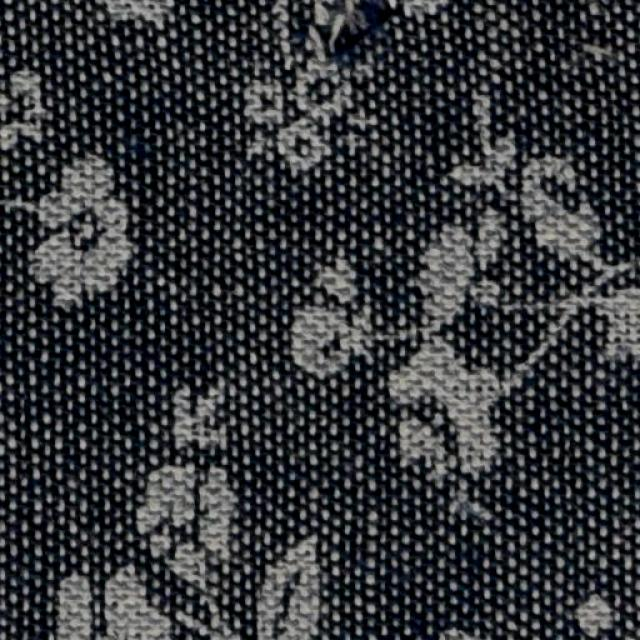Snag: (312, 2, 415, 76)
